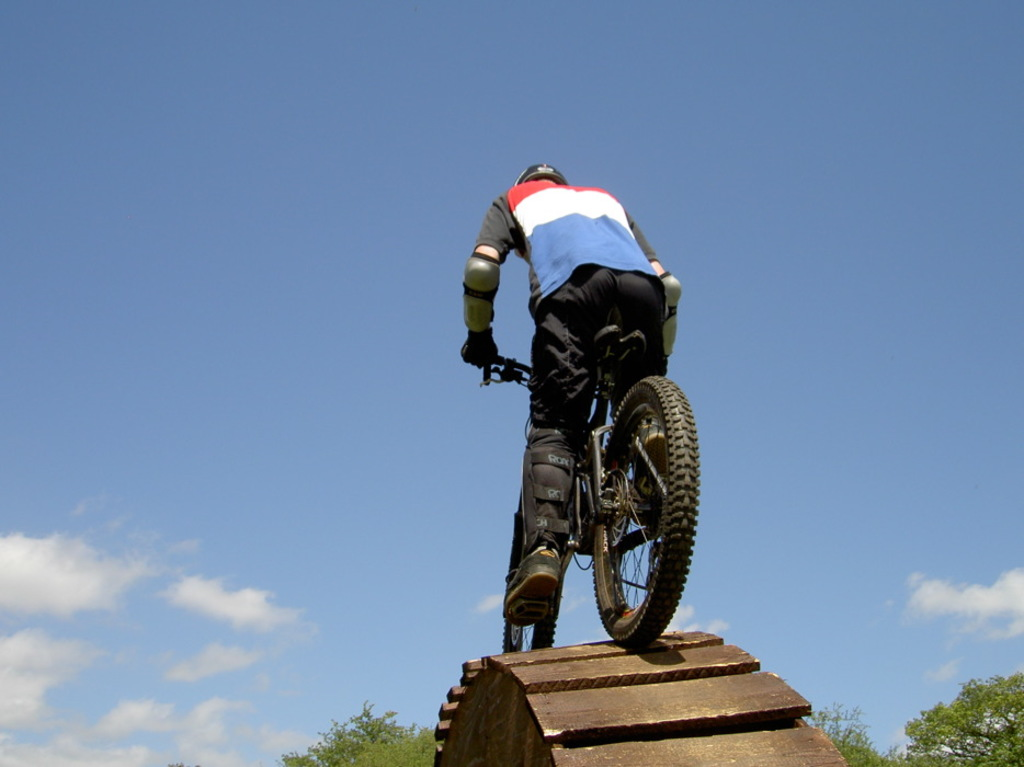Bike_away: (460, 324, 703, 659)
